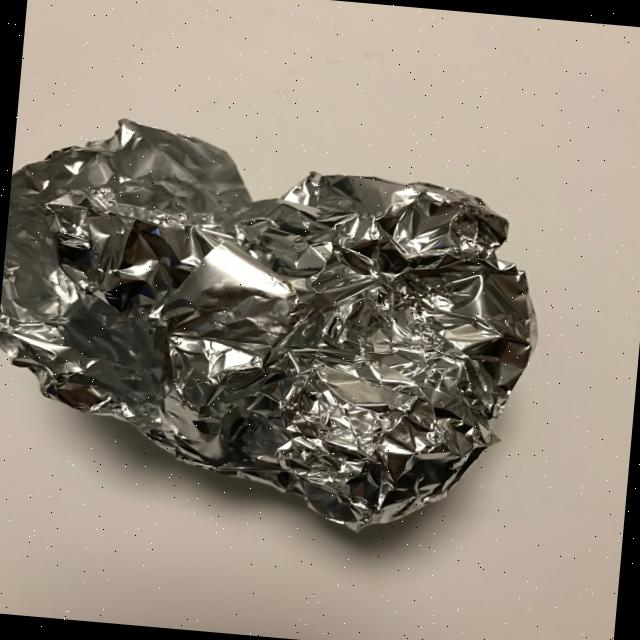metal: (0, 108, 553, 546)
